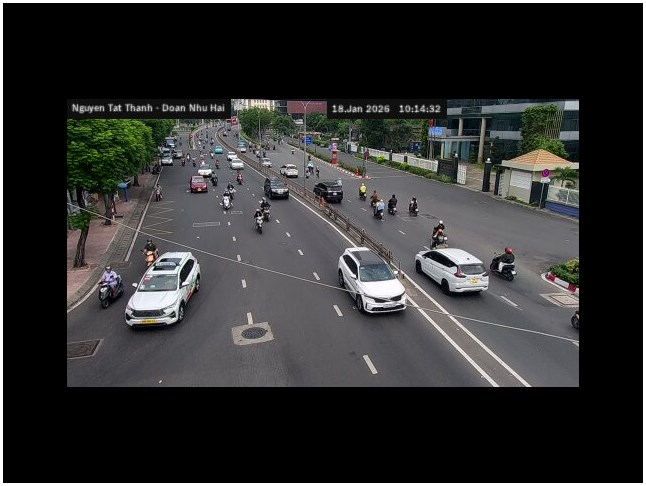car: (124, 251, 201, 328), (337, 245, 407, 315), (414, 247, 490, 296), (313, 179, 344, 203), (264, 177, 289, 200), (189, 175, 209, 193), (280, 163, 299, 178)
motorbike: (98, 267, 123, 308), (489, 247, 517, 281)
